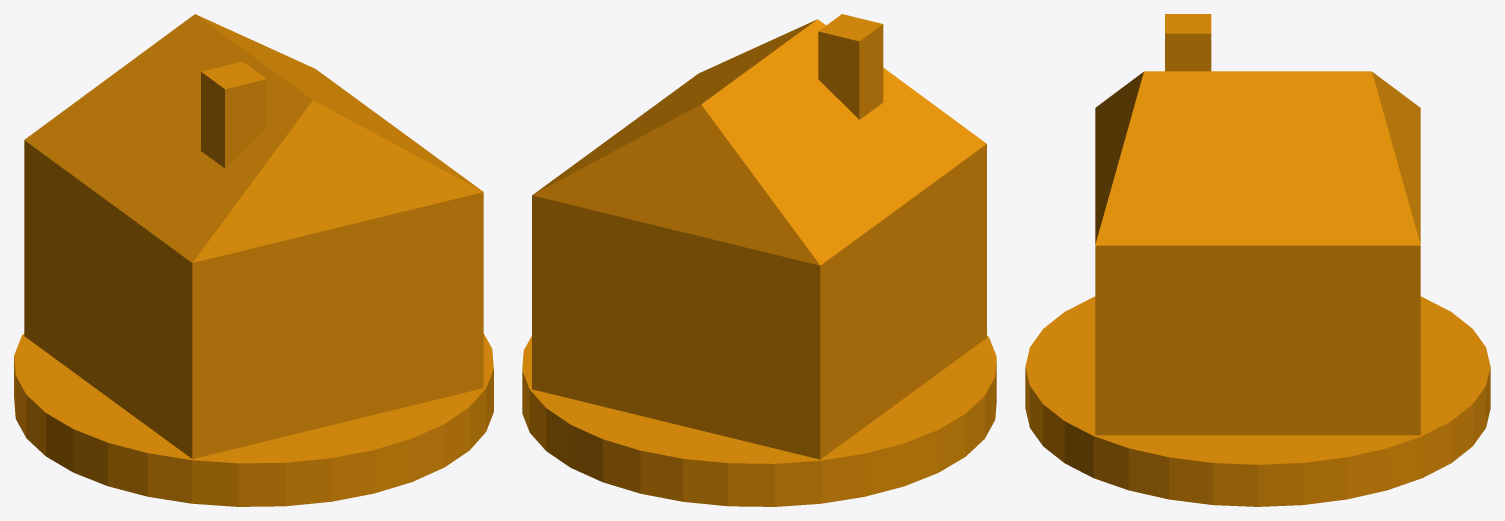
Rendered from house.dae.
3 renders of one model, left to right at view 1: azimuth 30°, elevation 25°; view 2: azimuth 150°, elevation 25°; view 3: azimuth 270°, elevation 25°, orthographic. The views are drawn at different scales.
Visible parts, largest first — view 1: House; view 2: House; view 3: House.
Part boxes in pixels (<box>): House: <box>14,14,493,506</box>; House: <box>522,14,996,506</box>; House: <box>1025,14,1490,506</box>.
Size of the model in its own units: 1000 by 1000 by 850.
